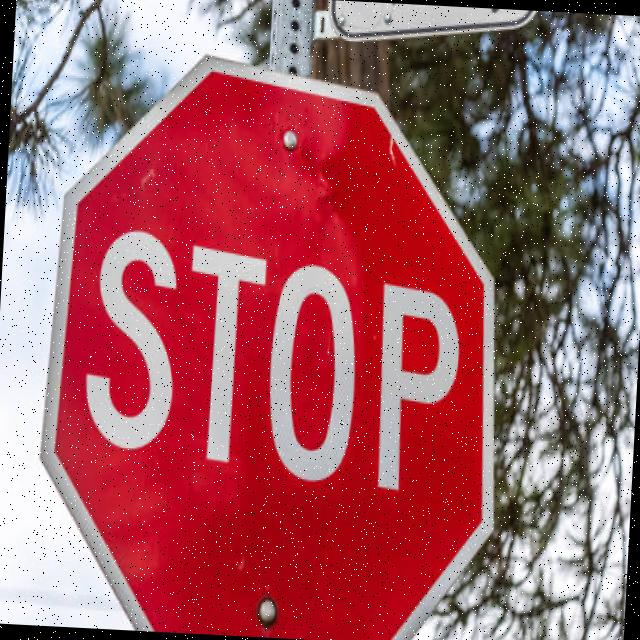stop: (17, 25, 532, 640)
